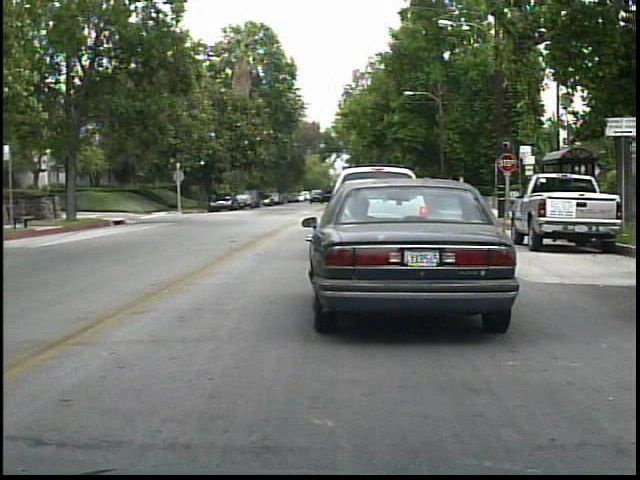person: (234, 182, 250, 210)
